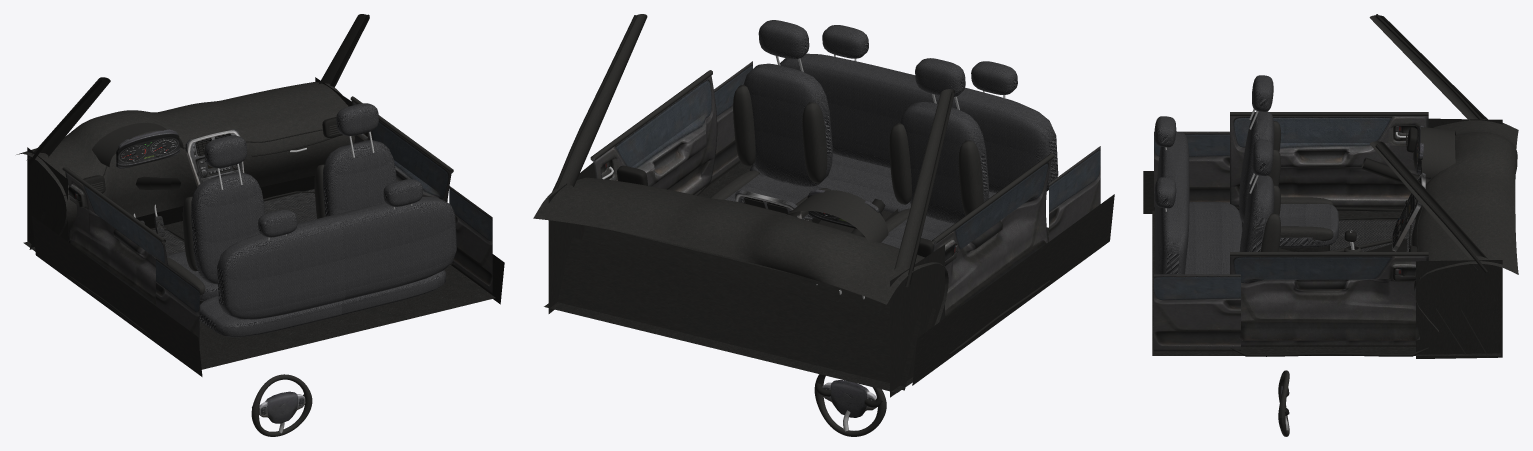
File: cabine-suv-070e2faf.glb
The picture shows the model from 3 angles, left to right: view 1: azimuth 30°, elevation 25°; view 2: azimuth 150°, elevation 25°; view 3: azimuth 270°, elevation 25°; orthographic projection. The views are drawn at different scales.
Visible parts, largest first — view 1: cockpit, traseira, bancos, colunas, volante; view 2: cockpit, bancos, traseira, colunas, volante; view 3: cockpit, bancos, traseira, colunas, volante.
Boxes of the visible parts, left/top/right/bottom form: cockpit: left=16, top=77, right=504, bottom=376; traseira: left=199, top=179, right=456, bottom=337; bancos: left=167, top=103, right=396, bottom=303; colunas: left=26, top=14, right=369, bottom=164; volante: left=251, top=374, right=312, bottom=436; cockpit: left=533, top=61, right=1114, bottom=397; bancos: left=710, top=20, right=988, bottom=248; traseira: left=750, top=25, right=1058, bottom=213; colunas: left=552, top=14, right=954, bottom=287; volante: left=814, top=374, right=886, bottom=436; cockpit: left=1143, top=112, right=1518, bottom=358; bancos: left=1239, top=75, right=1338, bottom=251; traseira: left=1154, top=116, right=1242, bottom=274; colunas: left=1369, top=14, right=1488, bottom=272; volante: left=1278, top=370, right=1289, bottom=436.
Bounding box in the file's own units: 1.95 × 2.17 × 2.08.
7 materials, 6 textured.
